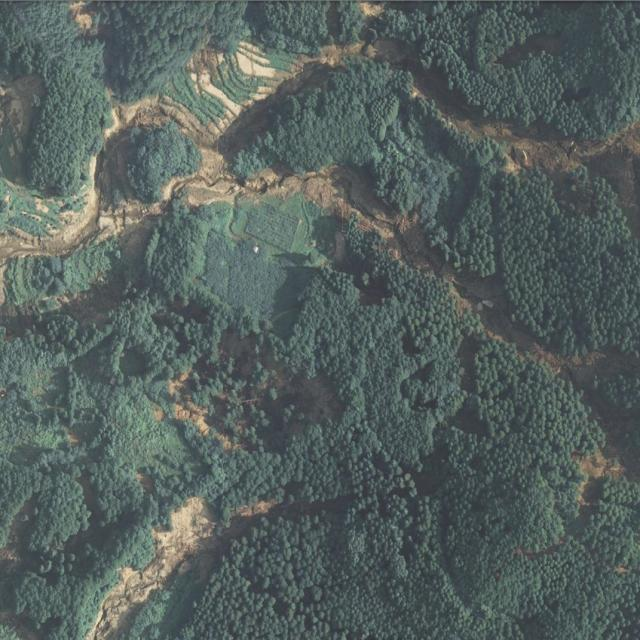landslide: (100, 35, 601, 337), (0, 155, 160, 307), (169, 325, 342, 451), (87, 499, 215, 640), (87, 576, 154, 638)
